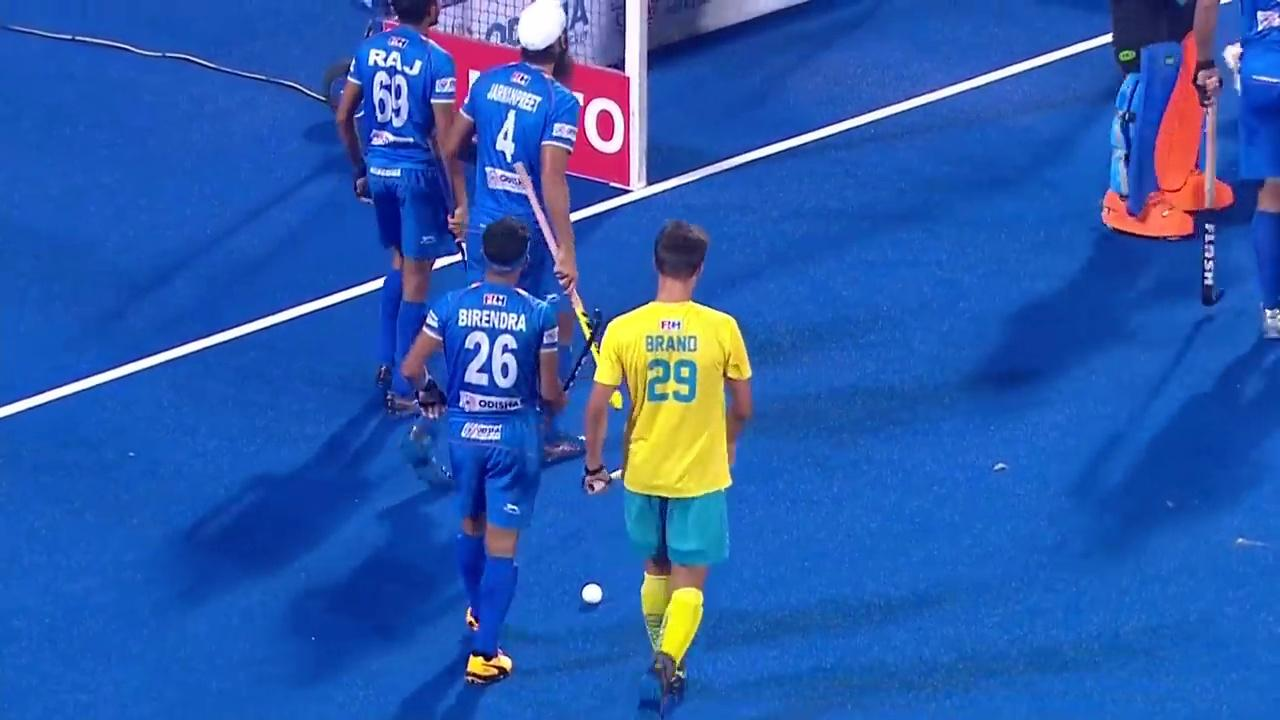ball: (570, 564, 617, 615)
